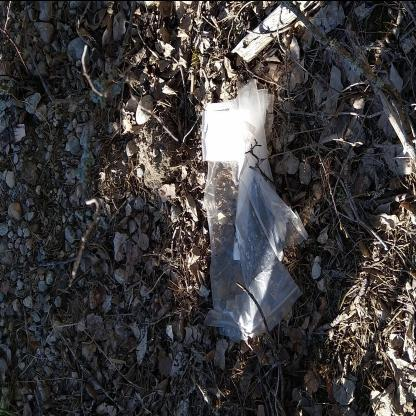plastik: (203, 83, 307, 339)
